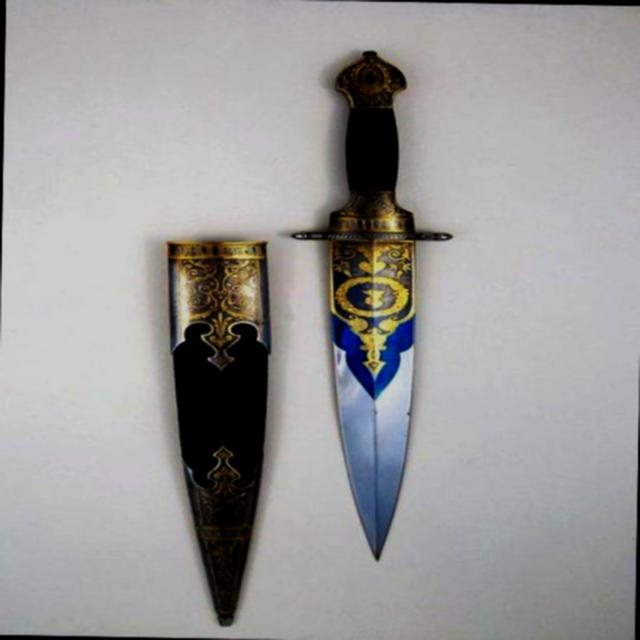short sword: (279, 34, 460, 574), (162, 225, 264, 628)
